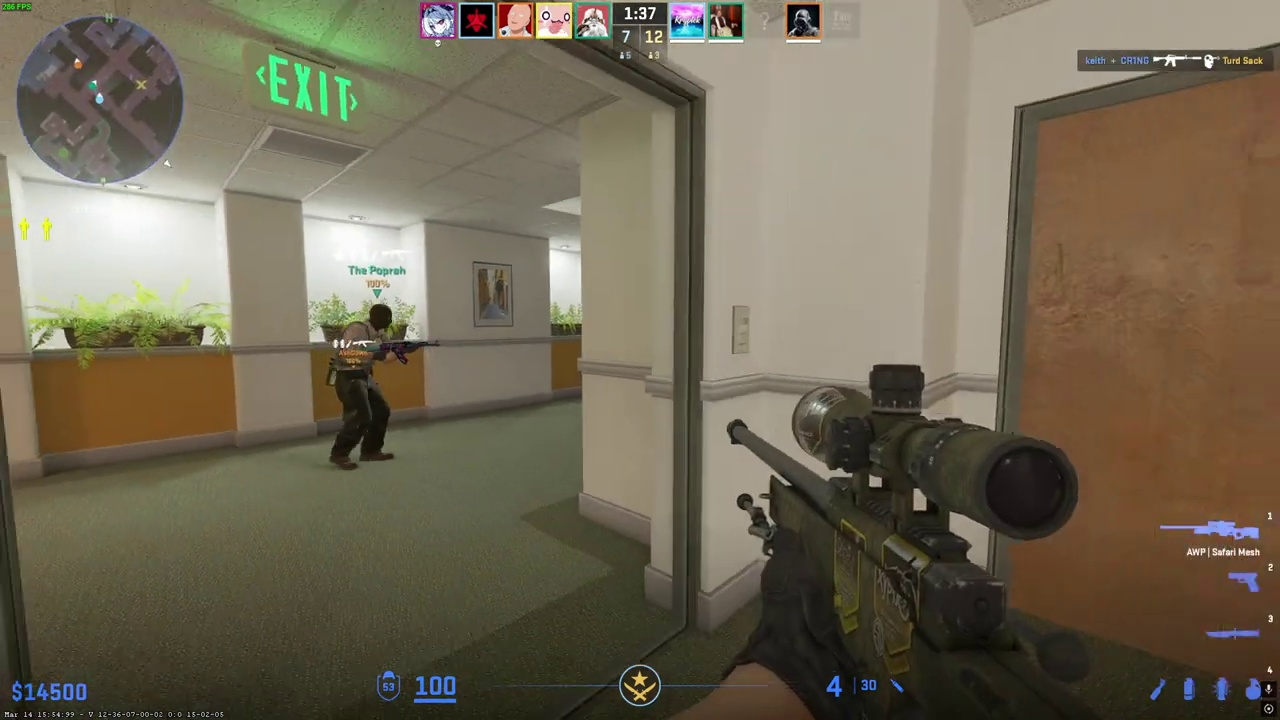Terrorist: (329, 304, 406, 470)
